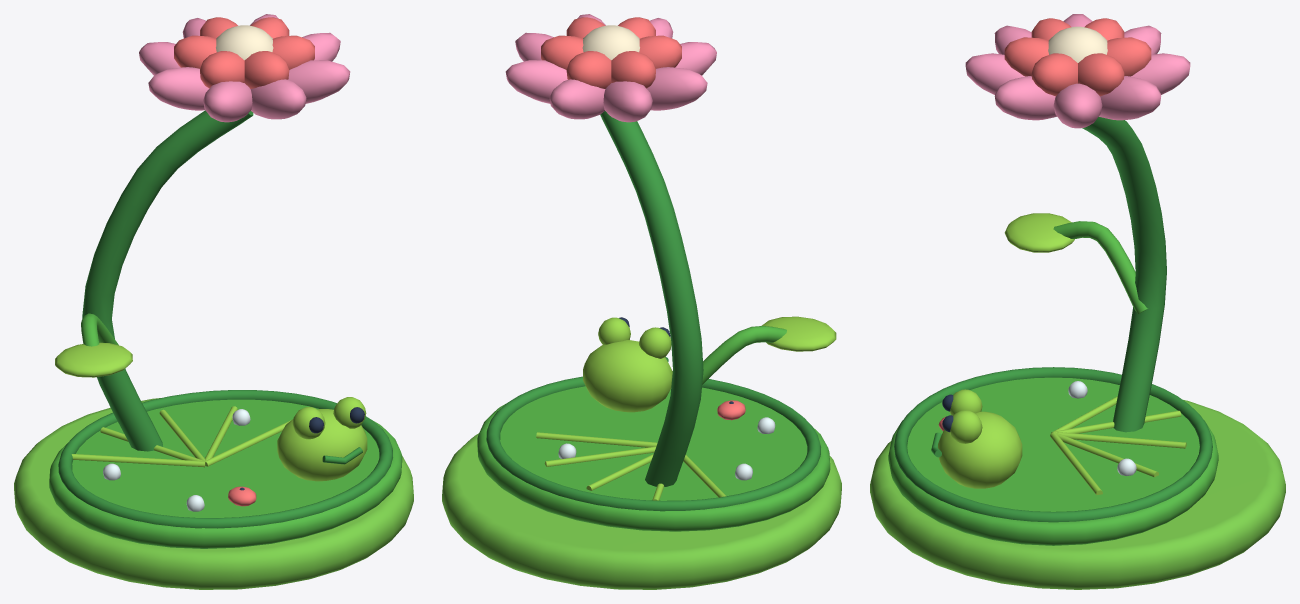
The model's file is DecorLilyLamp.fbx.
The picture shows the model from 3 angles, left to right: view 1: azimuth 30°, elevation 25°; view 2: azimuth 150°, elevation 25°; view 3: azimuth 270°, elevation 25°; orthographic projection. The views are drawn at different scales.
Visible parts, largest first — view 1: DecorLilyLamp mesh; view 2: DecorLilyLamp mesh; view 3: DecorLilyLamp mesh.
Part boxes in pixels (x1,y1,x2,y2): DecorLilyLamp mesh: (14, 14, 413, 589); DecorLilyLamp mesh: (442, 14, 841, 589); DecorLilyLamp mesh: (870, 14, 1285, 589).
Size of the model in its own units: 0.34 by 0.445 by 0.34.
